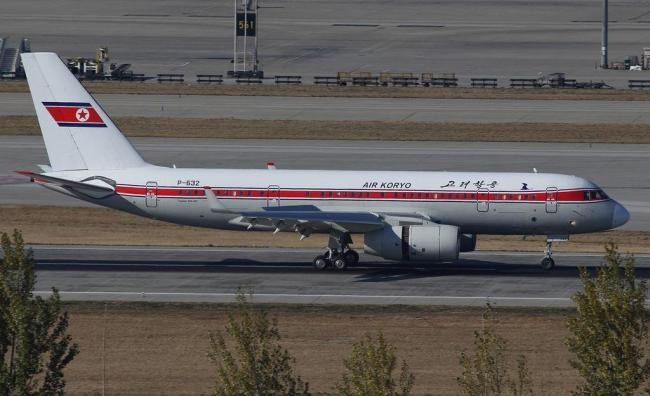airplane: (13, 48, 631, 277)
